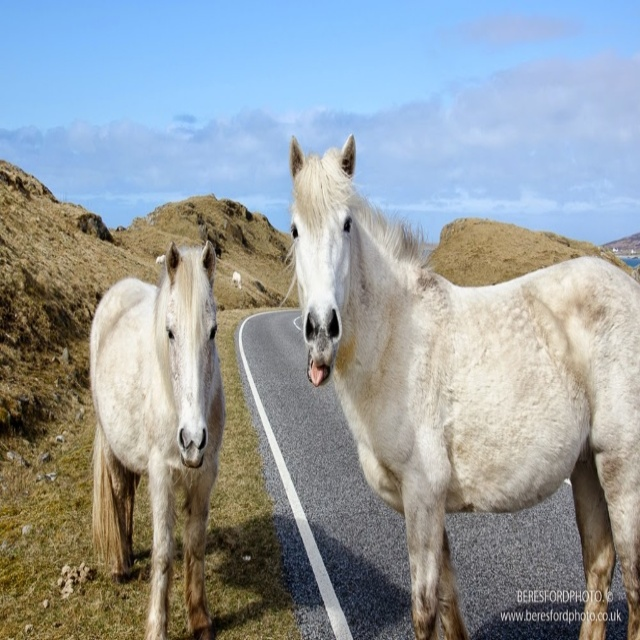Horse: (284, 132, 639, 639), (88, 235, 225, 639)
